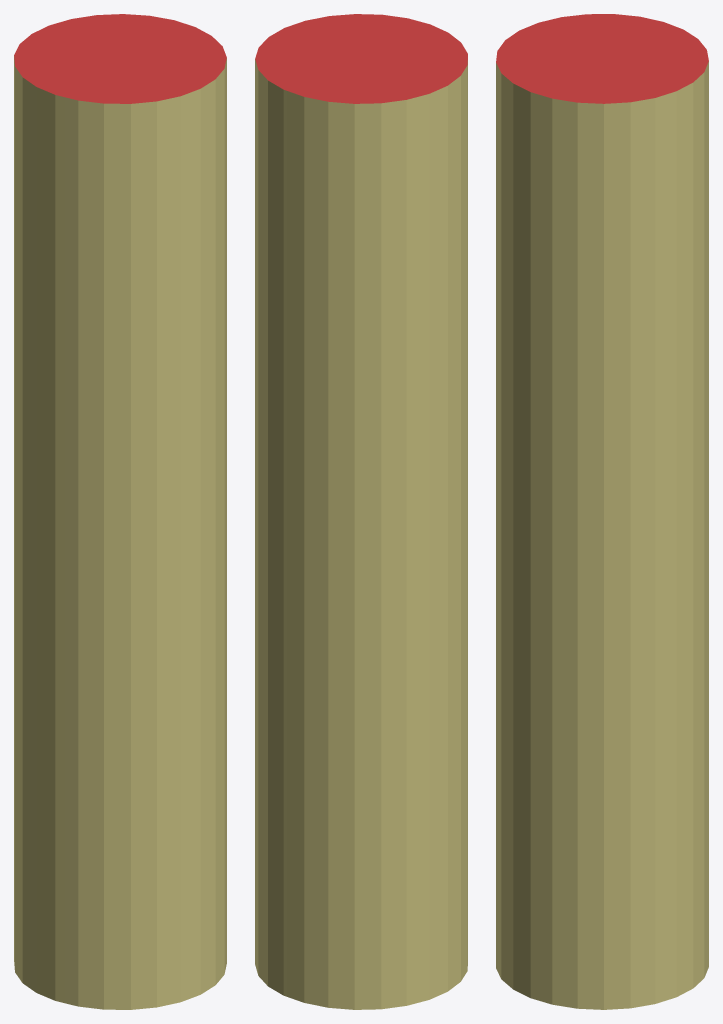
3 renders of one model, left to right at view 1: azimuth 30°, elevation 25°; view 2: azimuth 150°, elevation 25°; view 3: azimuth 270°, elevation 25°, orthographic.
Size of the model in its own units: 2.42 by 2.42 by 11.36.
